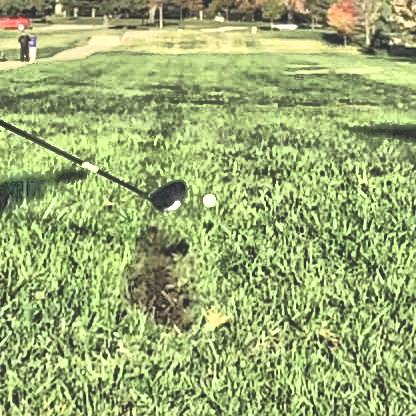golfball: (199, 189, 214, 204)
